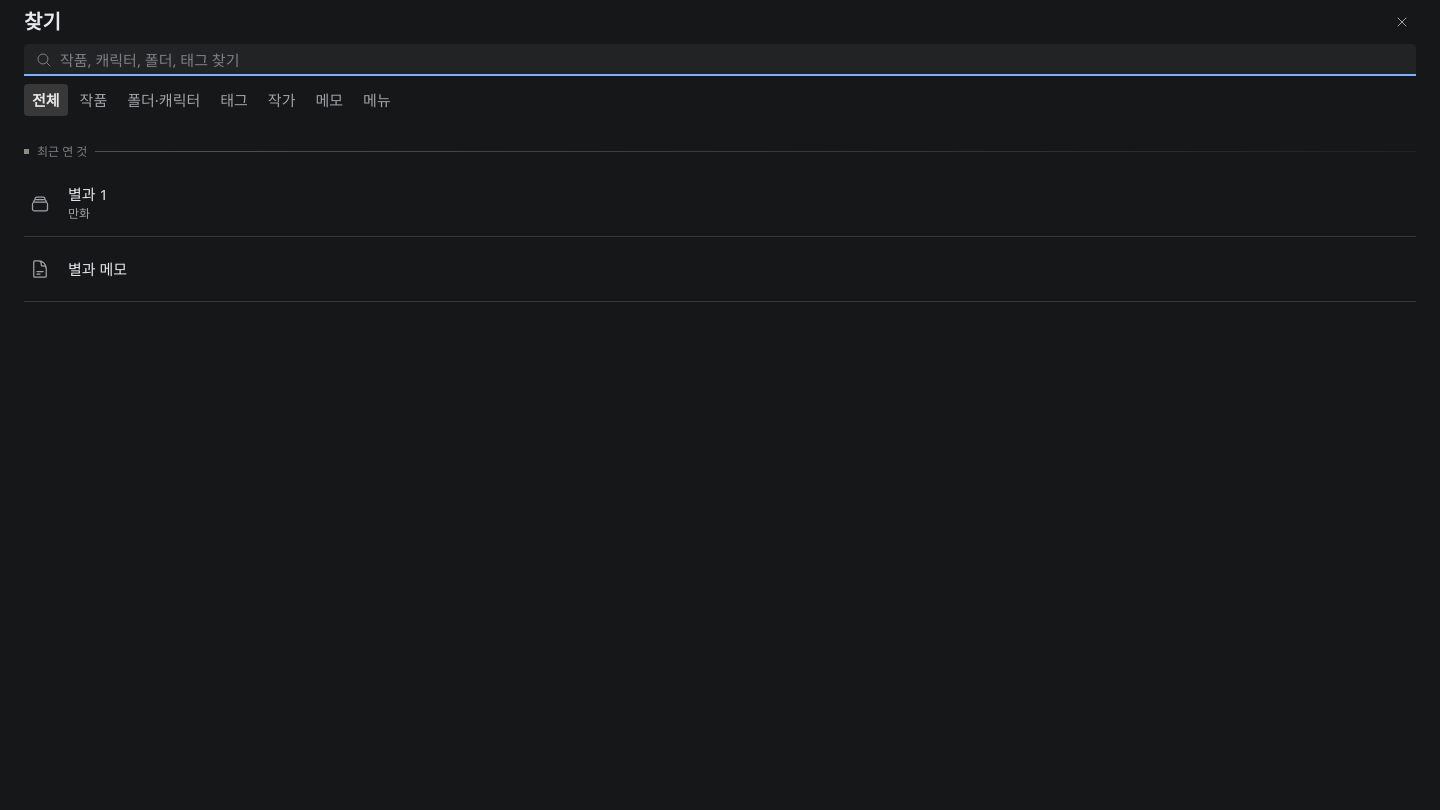
Test case: resolves recent IDs against current accessible entries and keeps the chosen scope
Expected: the number of options is 2, [24, 172, 1416, 237]; [24, 237, 1416, 302]
Click the button "메모": coordinates (329, 100) [308, 84, 351, 116]
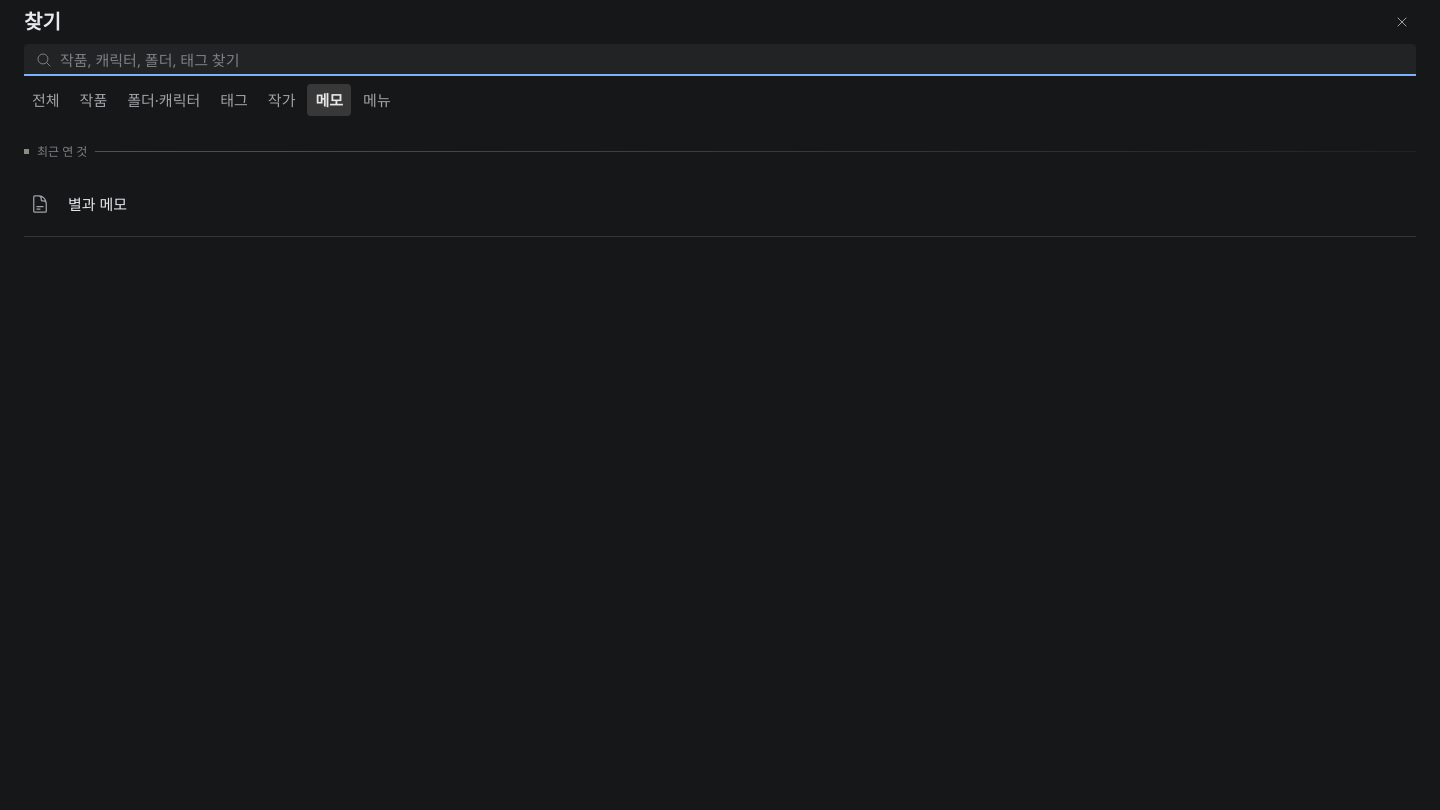
Expected: the option reads "별과 메모", [24, 172, 1416, 237]
Expected: the number of options is 1, [24, 172, 1416, 237]
